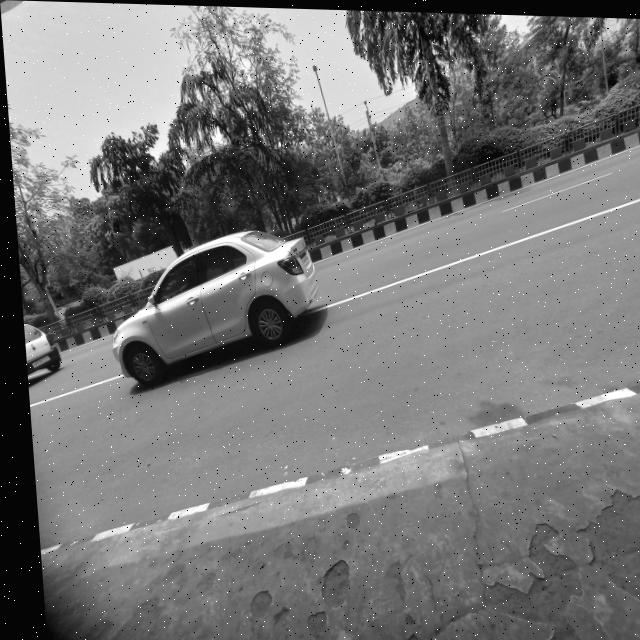car: (95, 226, 316, 387), (19, 320, 58, 398)
